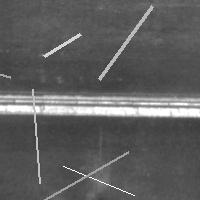scratches: (1, 85, 200, 121), (94, 1, 157, 84), (37, 147, 133, 200), (58, 161, 139, 200), (27, 84, 44, 188), (39, 29, 85, 61), (0, 49, 15, 82)
